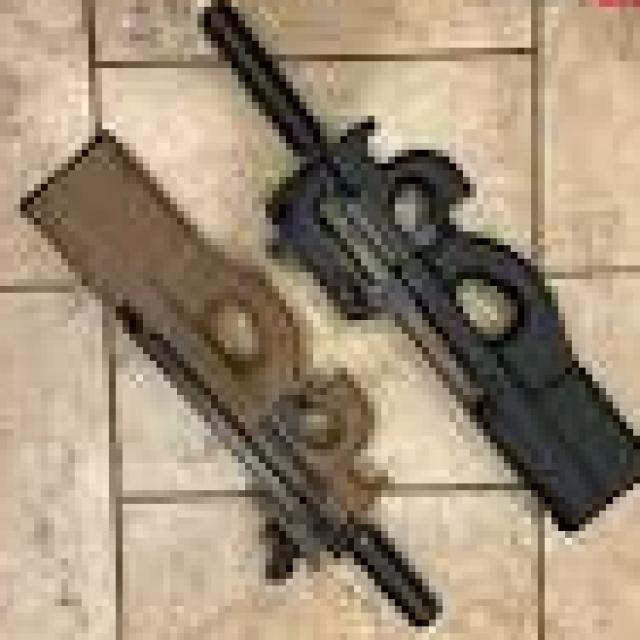Gun: (211, 0, 640, 559), (13, 136, 436, 640)
